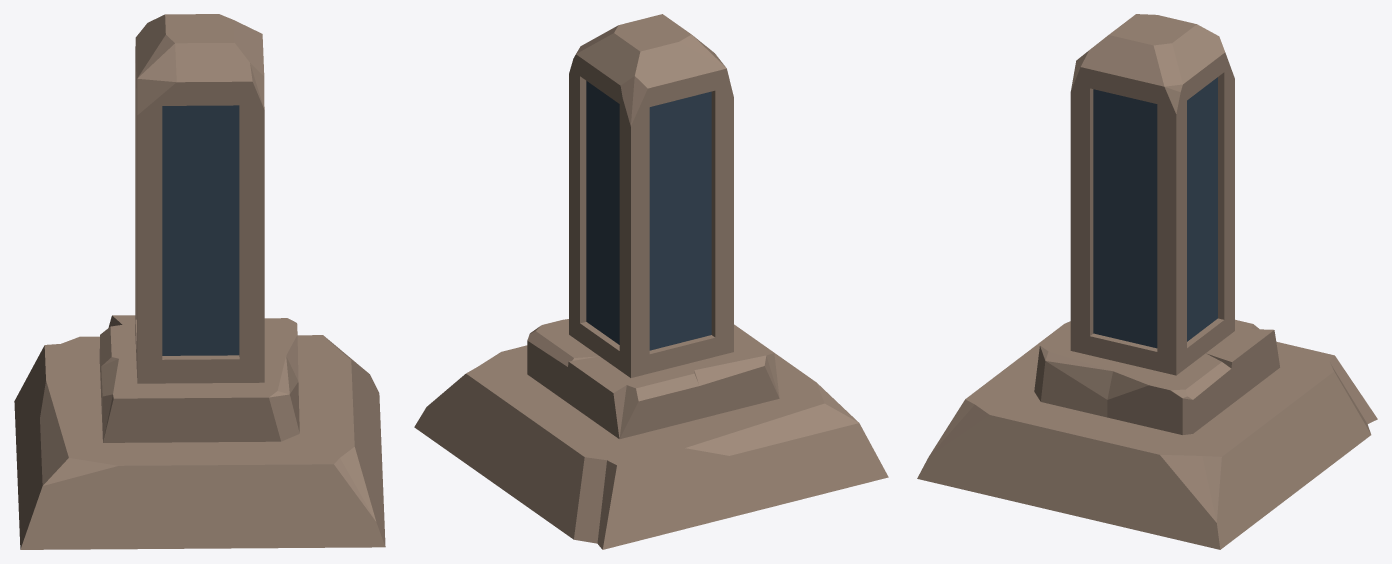
Rendered from Stele.fbx.
3 renders of one model, left to right at view 1: azimuth 30°, elevation 25°; view 2: azimuth 150°, elevation 25°; view 3: azimuth 270°, elevation 25°, orthographic. The views are drawn at different scales.
Parts seen in each view (by area): view 1: 立方体.080; view 2: 立方体.080; view 3: 立方体.080.
Part boxes in pixels (x1,y1,x2,y2): 立方体.080: (14, 14, 385, 549); 立方体.080: (414, 14, 888, 549); 立方体.080: (917, 14, 1377, 549).
Bounding box in the file's own units: 351 × 343 × 346.
